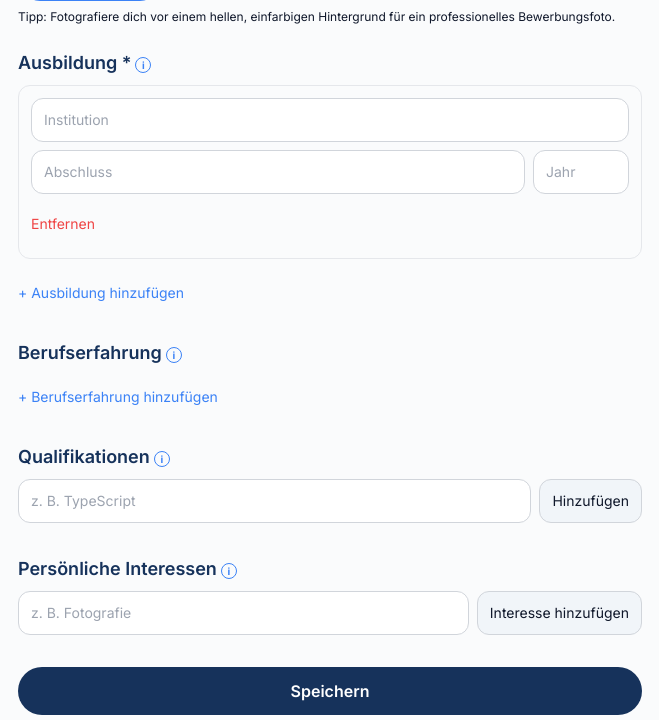
Scenario: ProfileForm › zeigt pro Qualifikations-Chip einen Slider an
(page scrolled)
Type "TypeScript" into the field with placeholder "z. B. TypeScript".
click(275, 501); type("TypeScript")  # box [18,479,531,523]
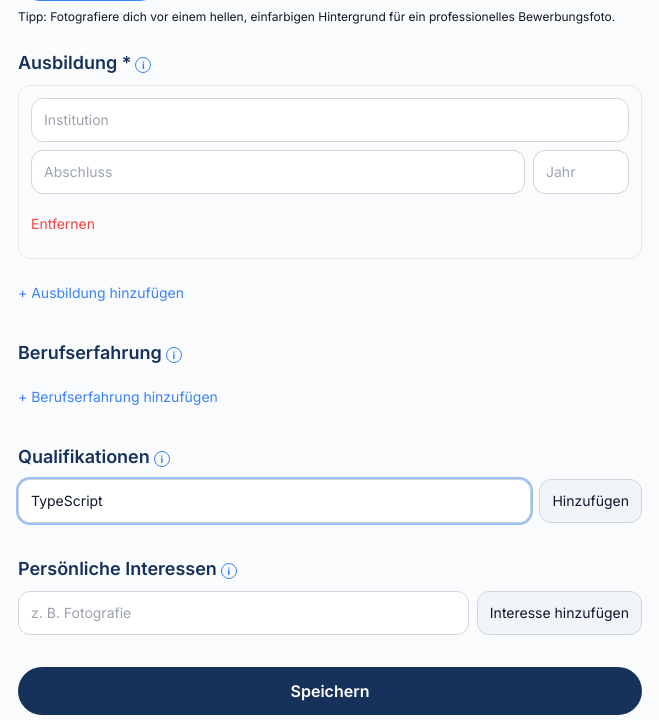
Click the button "Hinzufügen".
click(591, 501)  # box [539,479,642,523]
(page scrolled)
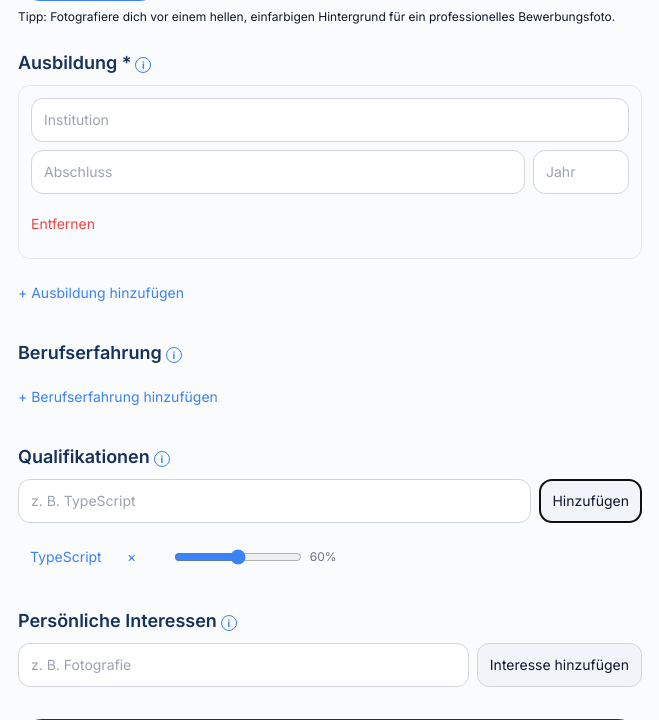
Result: the slider named "typescript" is shown at [174,535,302,579]
